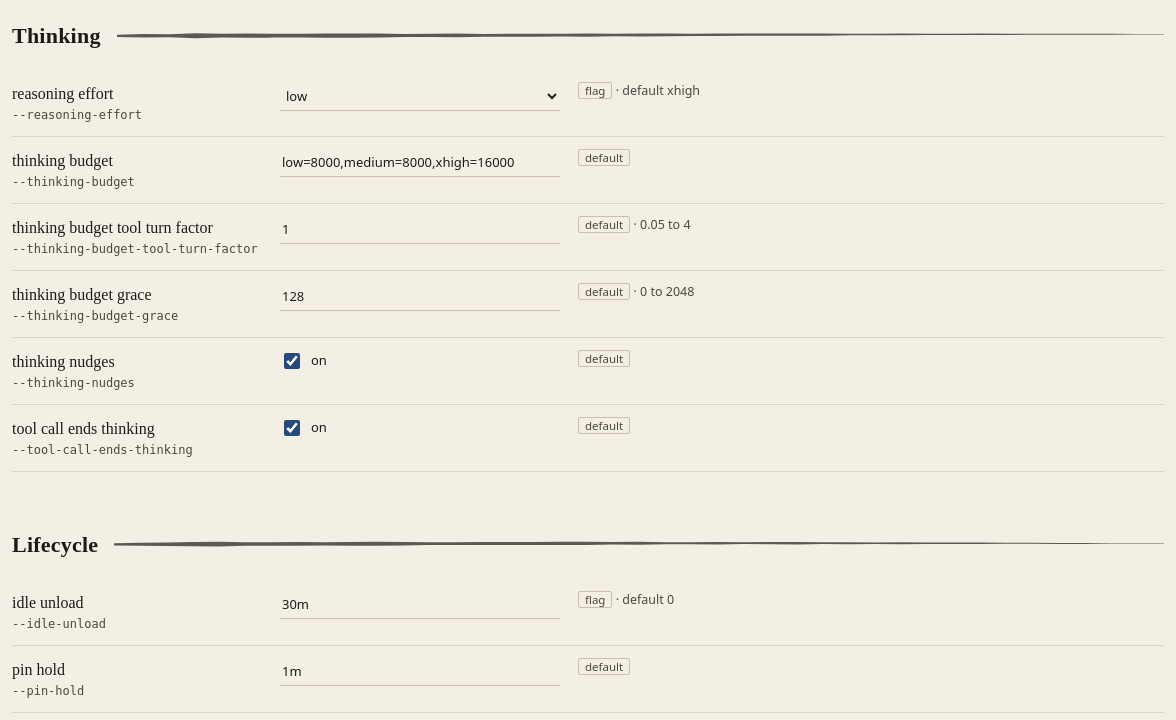
Test: SettingsView › a toggle commits at once
(page scrolled)
Click the 1st checkbox labelled "on": x=292, y=360 [284, 352, 300, 368]
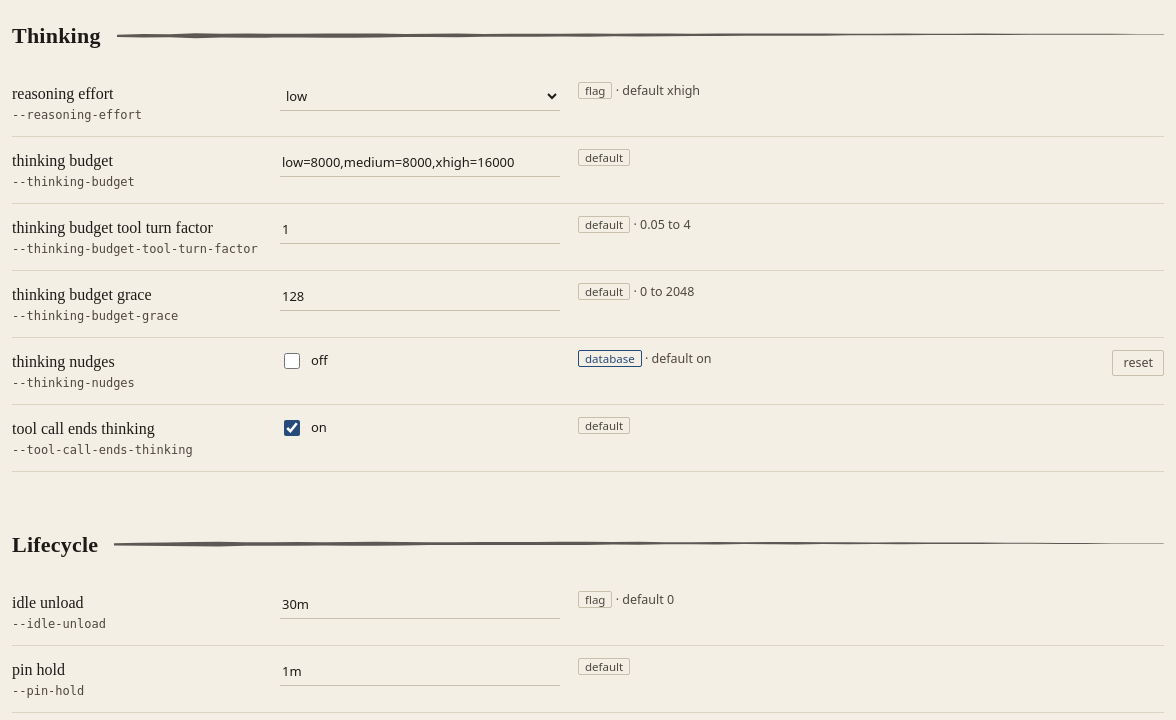
expect the element with class "set-row" shows "off": met, box [311, 351, 328, 369]
expect the element with class "set-row" shows "database": met, box [585, 350, 635, 366]
